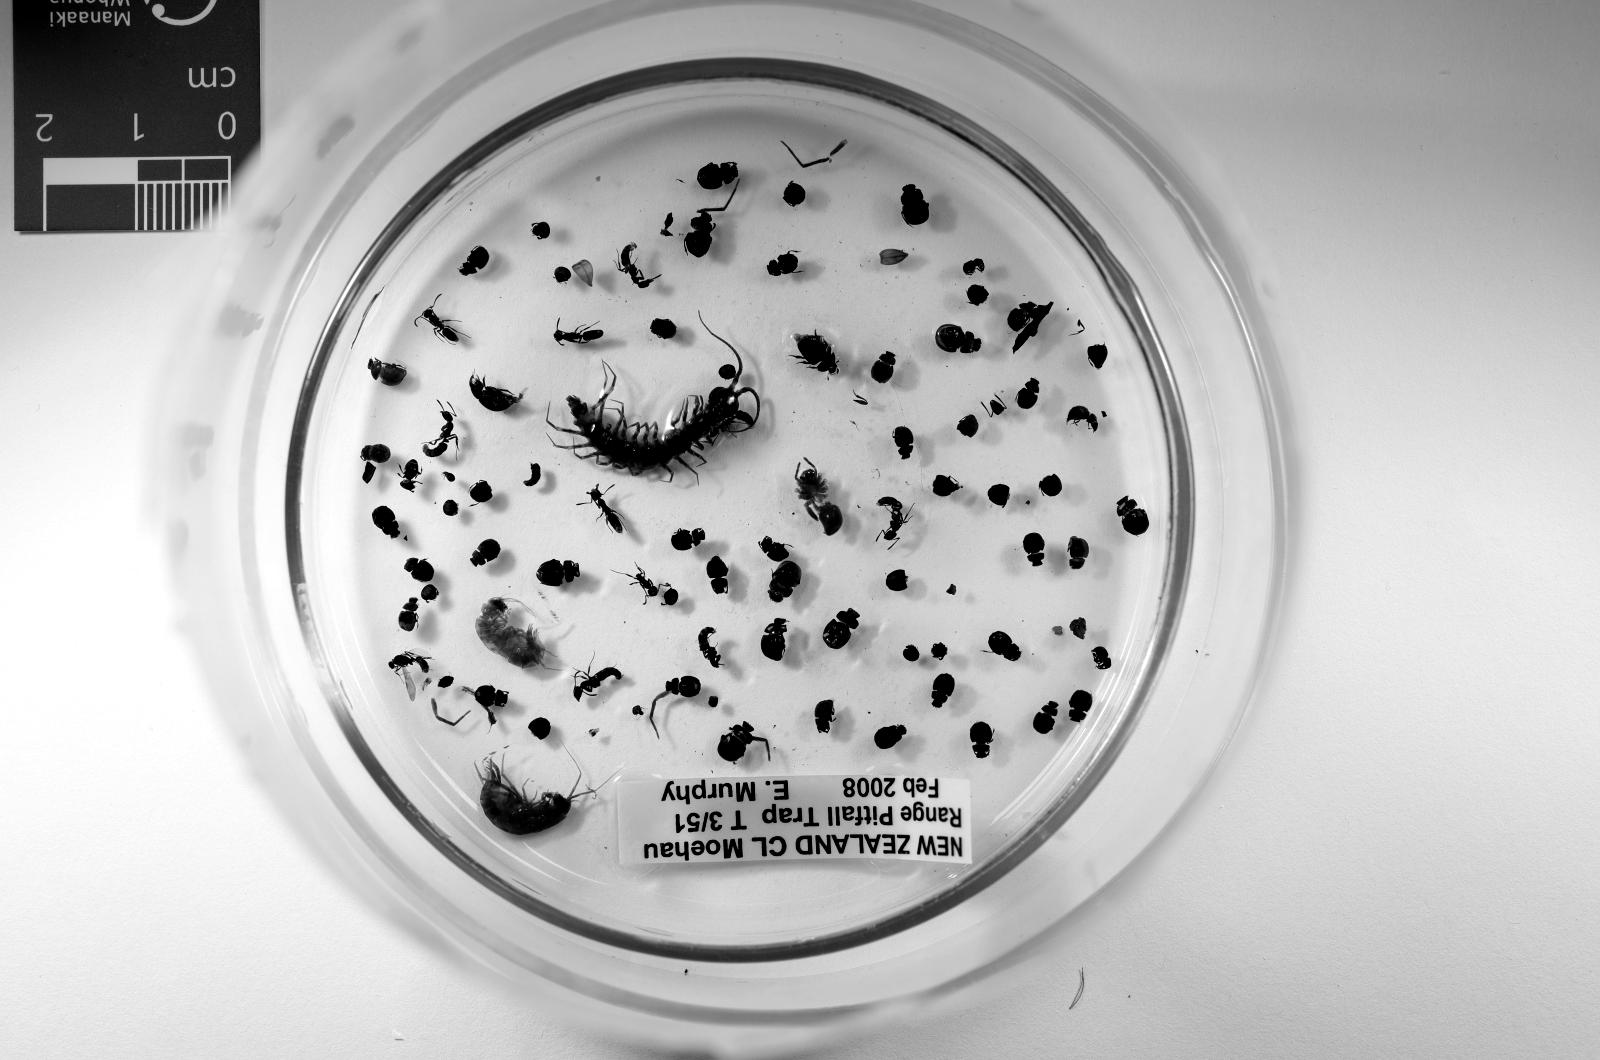acari: (443, 472, 456, 481)
amphipoda: (481, 757, 575, 835), (475, 600, 546, 667)
araneae: (793, 459, 828, 518)
chilopoda: (546, 323, 759, 481)
coleoptera: (468, 376, 522, 413), (793, 336, 837, 373), (822, 608, 860, 649), (719, 720, 753, 764), (685, 211, 715, 258), (934, 323, 982, 354), (769, 558, 799, 602), (1115, 497, 1149, 535), (900, 183, 928, 227), (538, 558, 582, 587), (759, 618, 788, 661), (697, 161, 738, 189), (369, 357, 407, 386), (987, 631, 1022, 661), (459, 245, 491, 277), (1031, 702, 1060, 736), (472, 686, 510, 711), (666, 674, 704, 699), (969, 720, 993, 757), (371, 506, 400, 537), (1006, 302, 1035, 332), (931, 674, 957, 707), (765, 252, 799, 277), (1069, 690, 1094, 724), (1065, 407, 1100, 432), (872, 351, 896, 386), (706, 556, 728, 593), (1022, 531, 1044, 568), (403, 558, 434, 584), (672, 528, 706, 550), (1016, 379, 1041, 409), (397, 596, 419, 631), (1069, 537, 1090, 571), (400, 459, 422, 491), (472, 541, 500, 565), (759, 537, 788, 562), (875, 726, 906, 749), (816, 699, 835, 733), (894, 426, 913, 459), (359, 444, 390, 463), (1094, 646, 1113, 671), (963, 258, 984, 277)
diptera: (388, 652, 428, 699)
formicidae: (422, 401, 459, 457), (618, 243, 660, 289), (572, 665, 622, 699), (588, 487, 622, 535), (422, 308, 459, 342), (879, 497, 906, 543), (553, 319, 603, 344), (697, 627, 721, 667), (634, 568, 660, 602)
